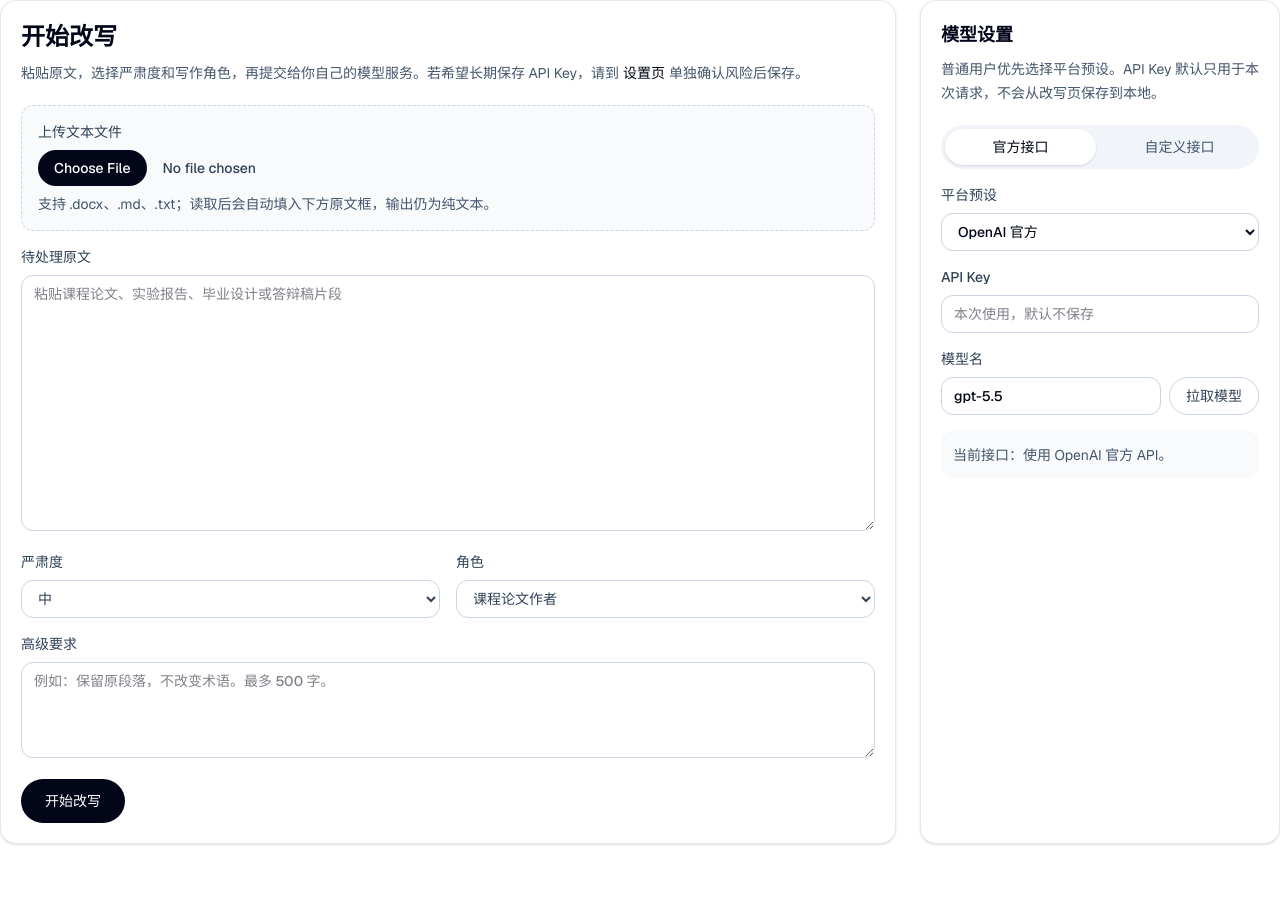
Test: RewriteTool › shows Chinese next-step advice when rewrite fails
This screenshot has width=1280, height=900.
Type "这是原文。" into the text box labelled "待处理原文" at point(448, 403), box [21,275,875,531]
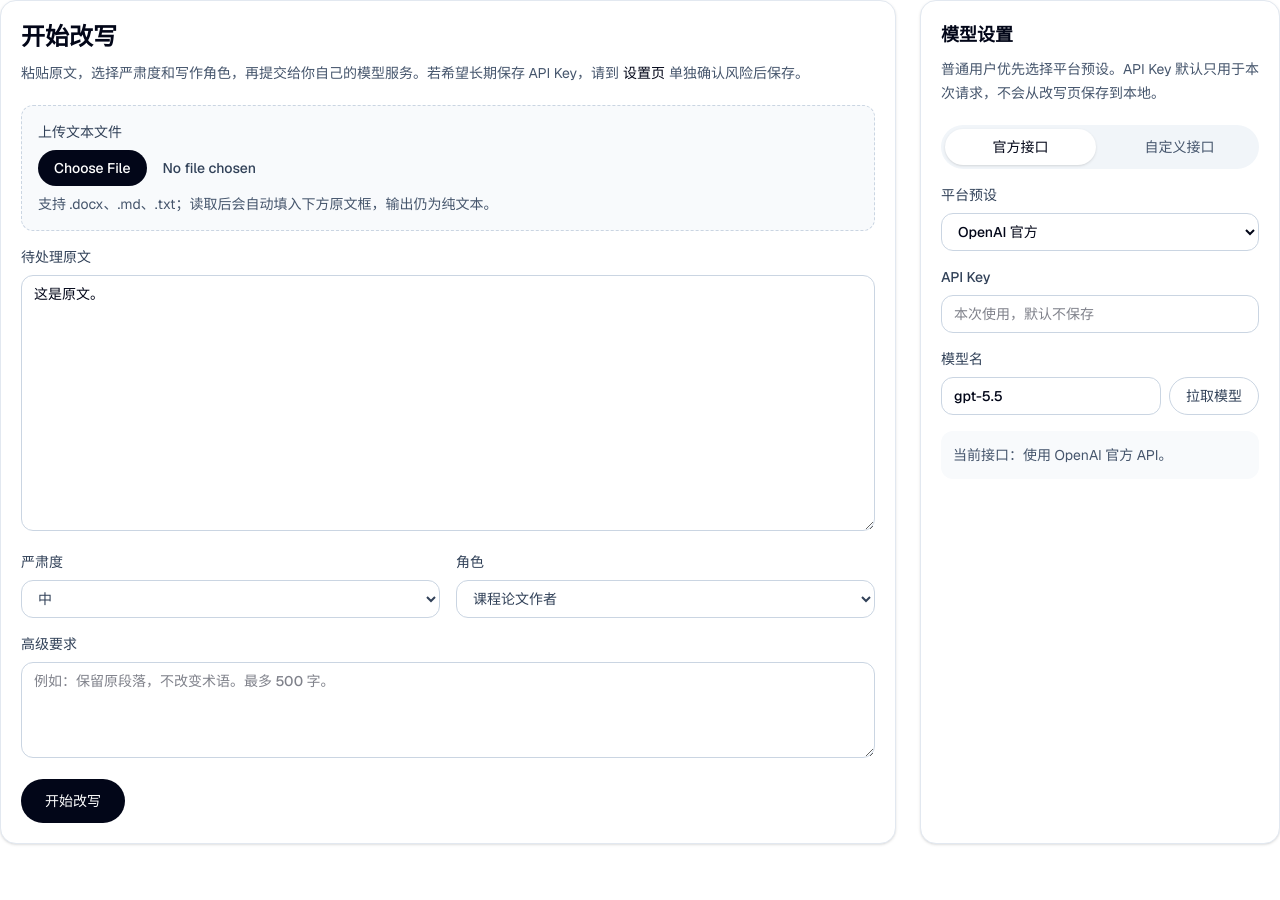
Click the button "开始改写" at point(73, 801), box [21,779,125,823]
(page scrolled)
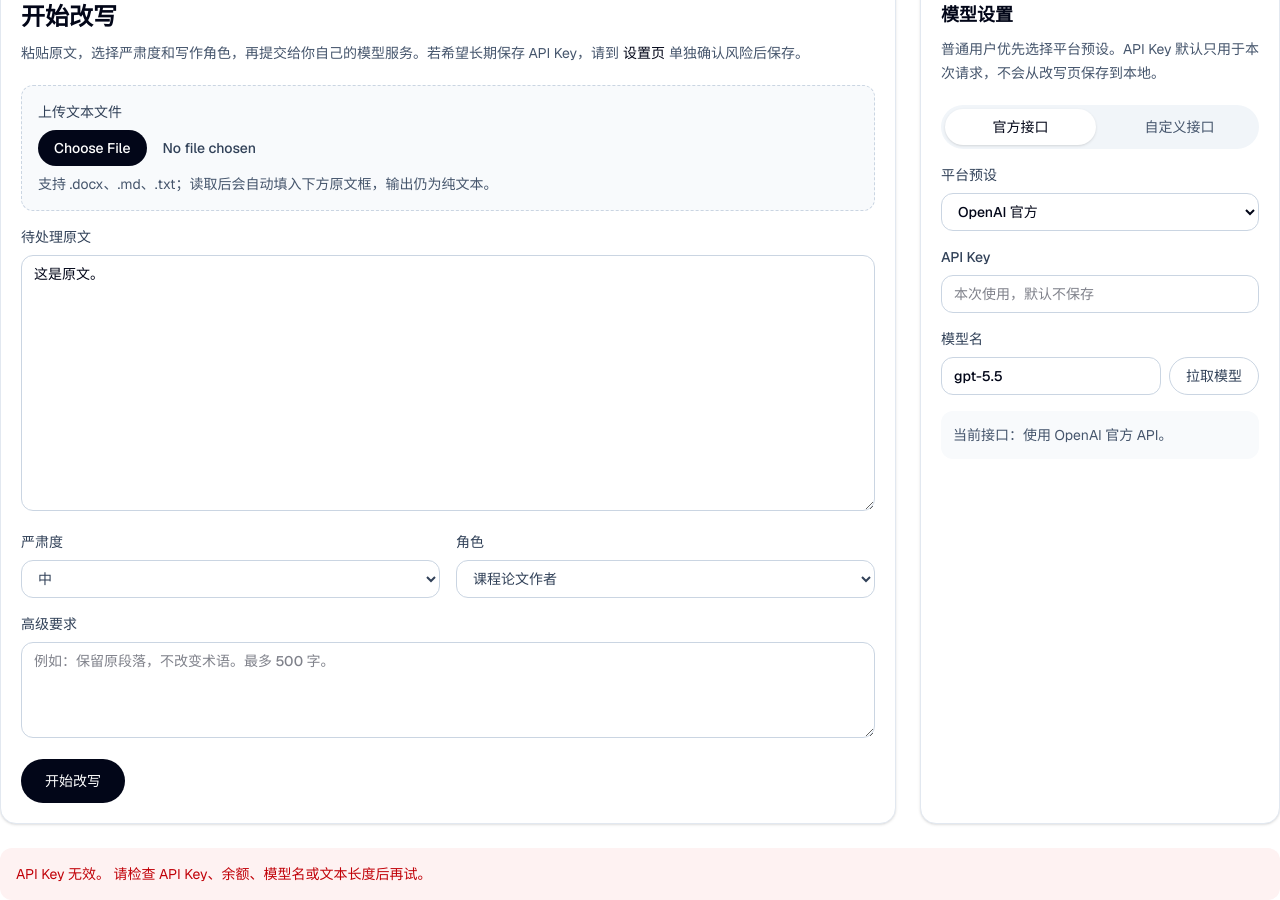
expect the text "API Key 无效。 请检查 API Key、余额、模型名或文本长度后再试。" is shown: met, box [0,848,1279,899]
